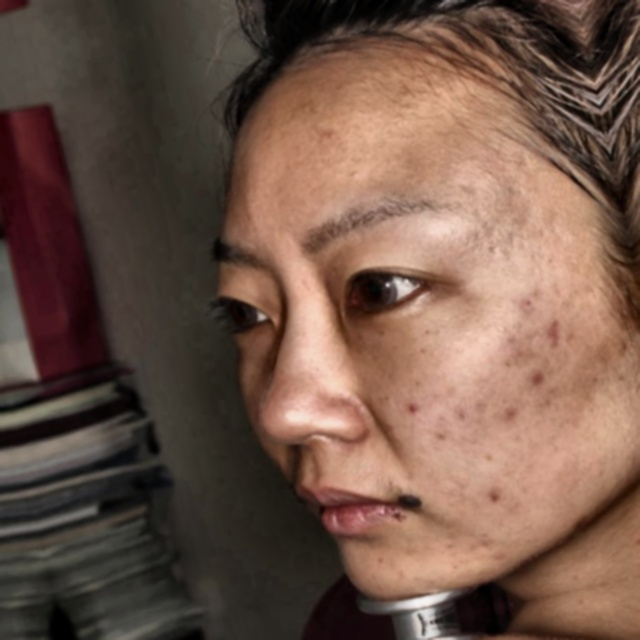comedone: (470, 529, 512, 575), (474, 480, 503, 516), (528, 359, 554, 389)
